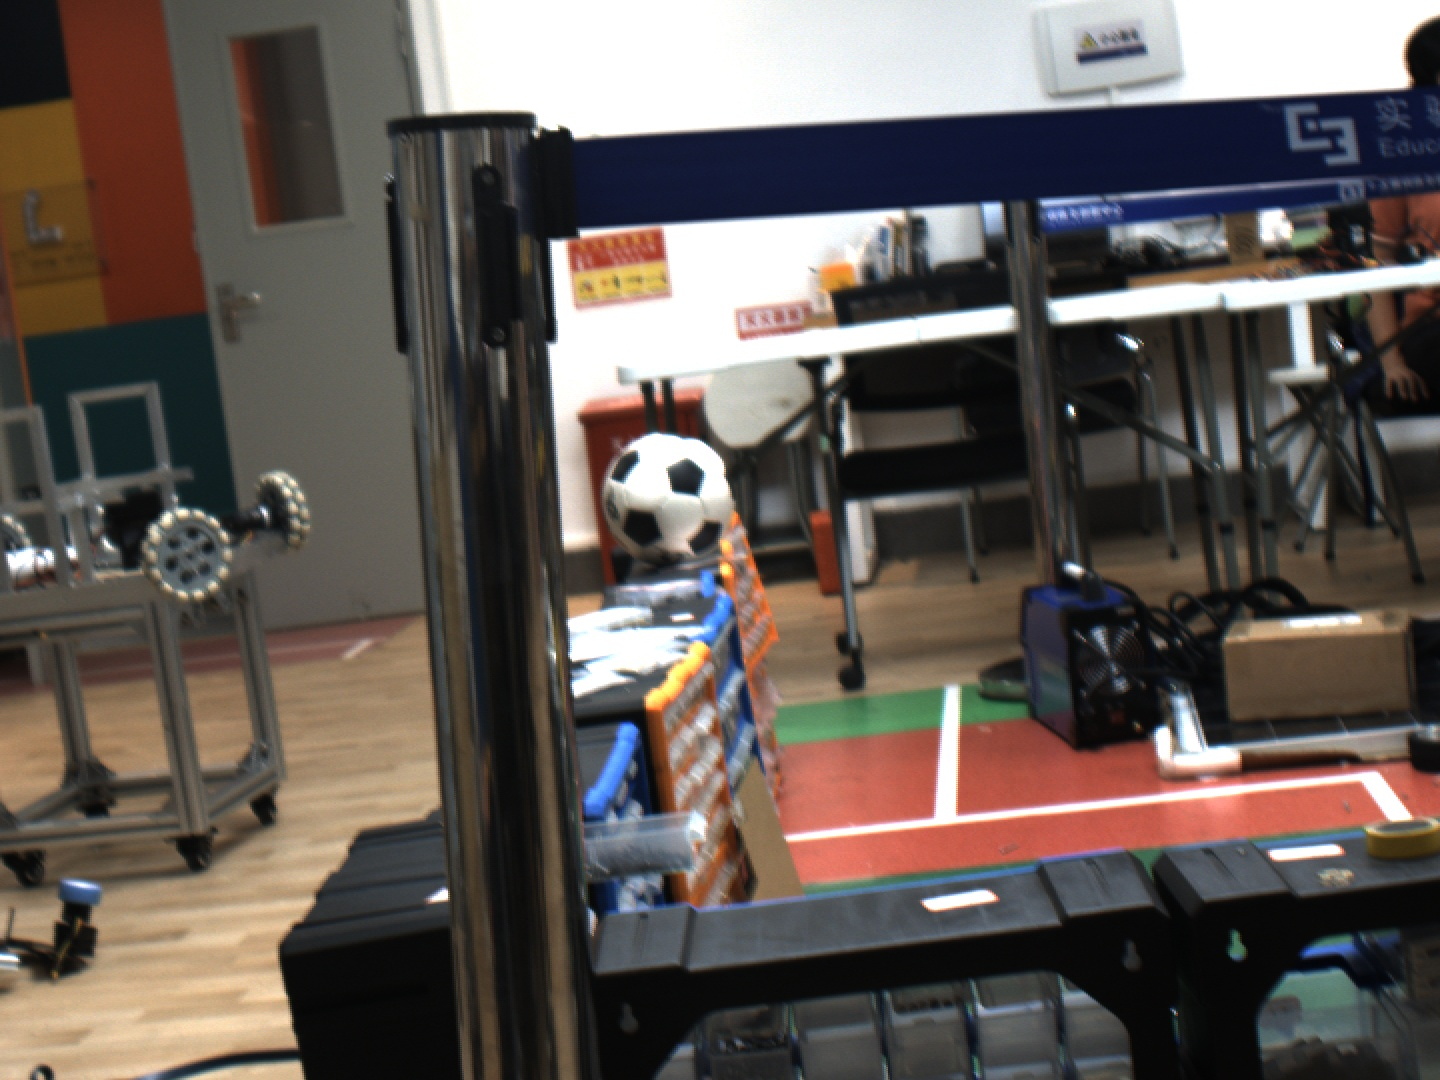ball: (577, 413, 764, 571)
